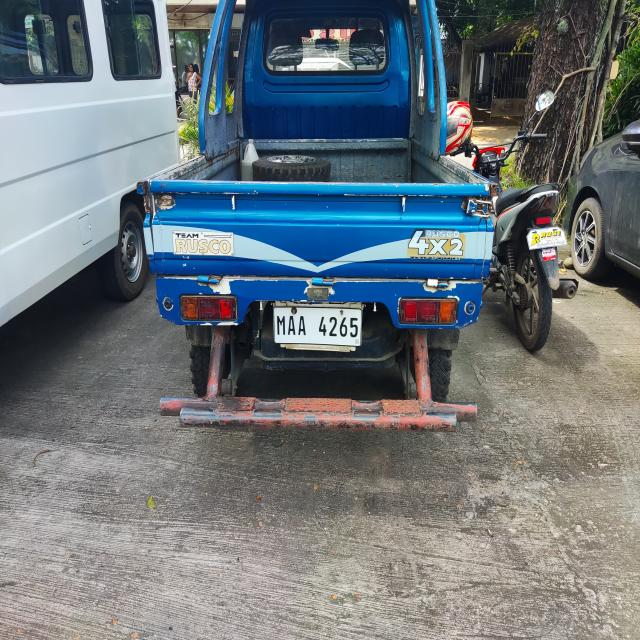plate: (272, 305, 363, 347)
